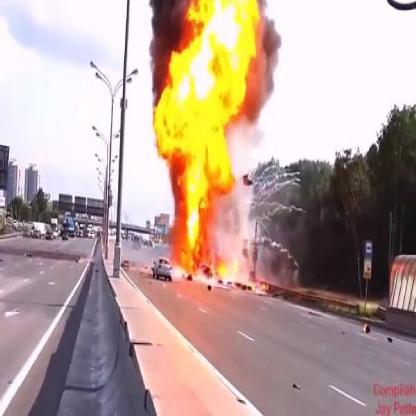fire: (150, 0, 263, 286)
